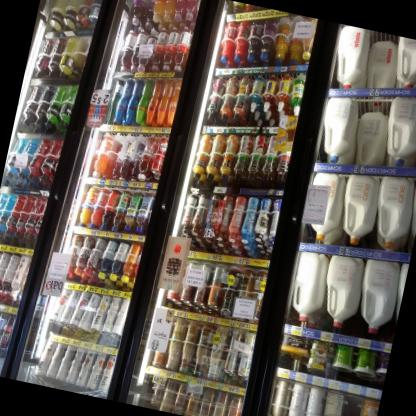empty_space: (333, 389, 367, 416)
